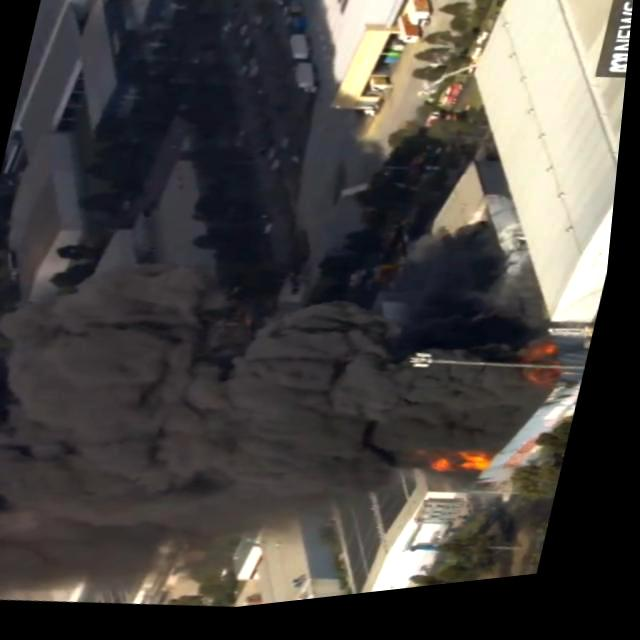fire: (432, 452, 506, 492)
